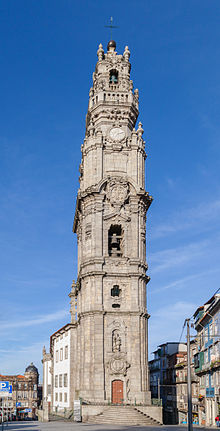clerigos: (73, 16, 151, 406)
